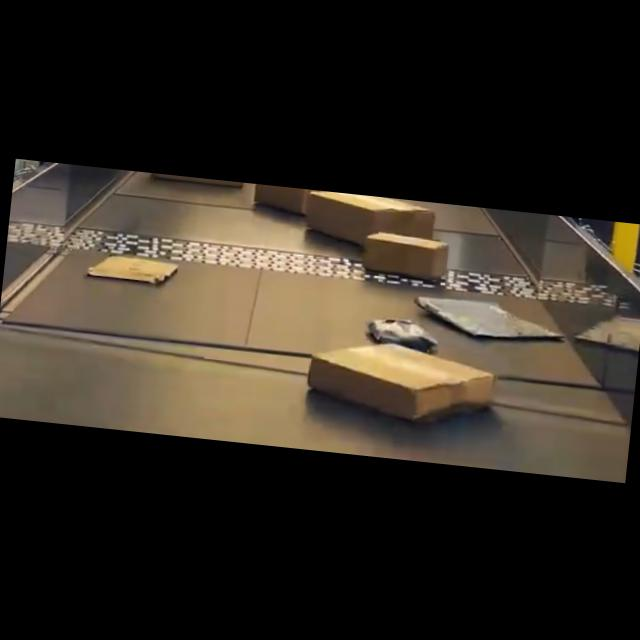box: (304, 335, 500, 433), (302, 188, 436, 245), (361, 229, 450, 280), (252, 182, 360, 215), (149, 172, 243, 188)
mailer: (411, 292, 567, 348), (88, 252, 176, 284), (367, 314, 438, 349)
